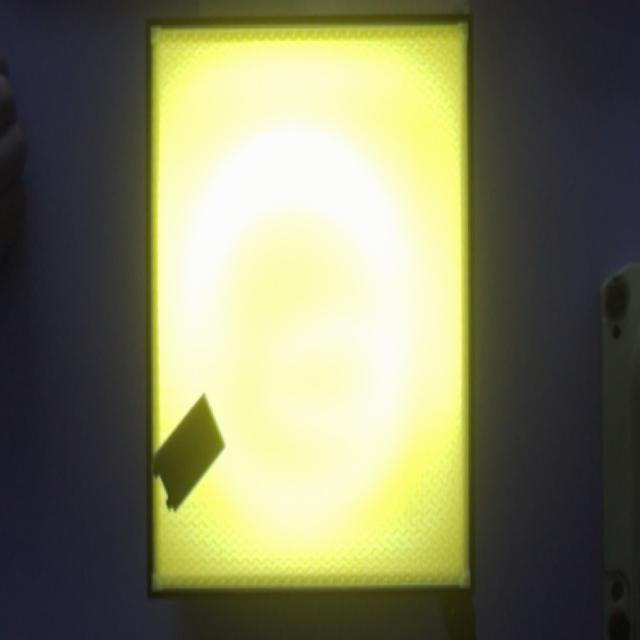bateria: (152, 393, 226, 512)
mesa: (146, 14, 476, 598)
